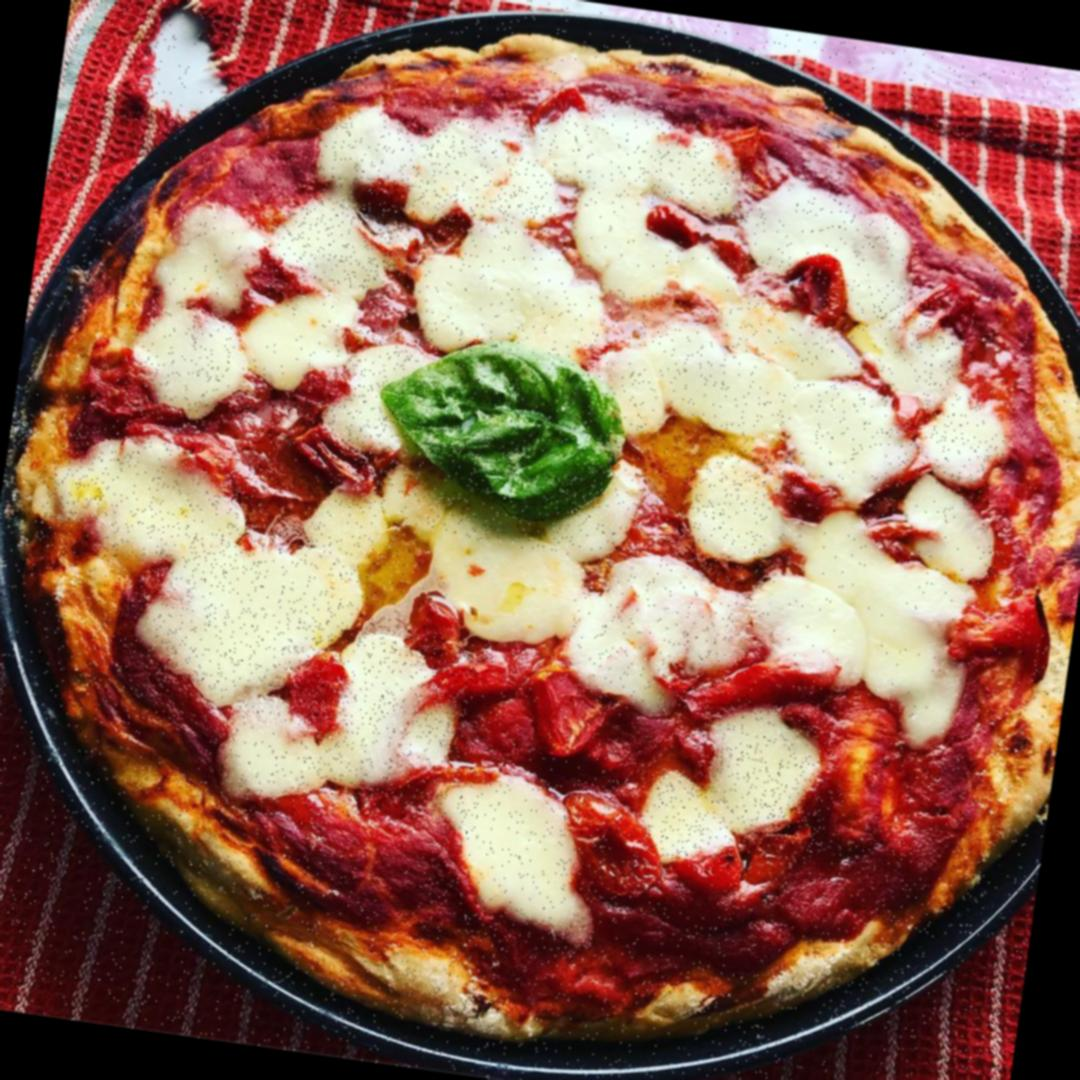Basil: (369, 309, 652, 548)
Cheese: (576, 286, 932, 514), (742, 500, 990, 754), (142, 512, 364, 715), (559, 529, 775, 726), (369, 436, 652, 581), (422, 757, 620, 956), (36, 420, 270, 578), (732, 156, 936, 337), (524, 89, 764, 237), (294, 625, 477, 816), (544, 198, 766, 324), (404, 534, 607, 658), (410, 100, 582, 246), (688, 696, 834, 854), (112, 294, 267, 430), (258, 178, 412, 310), (848, 284, 981, 423), (229, 272, 366, 404), (146, 185, 277, 323), (902, 367, 1028, 504), (316, 324, 433, 470), (674, 448, 807, 560), (884, 472, 1011, 589), (220, 684, 332, 813), (308, 102, 434, 212), (294, 472, 406, 592), (630, 764, 745, 876)
Pizza: (0, 0, 1080, 1080)
